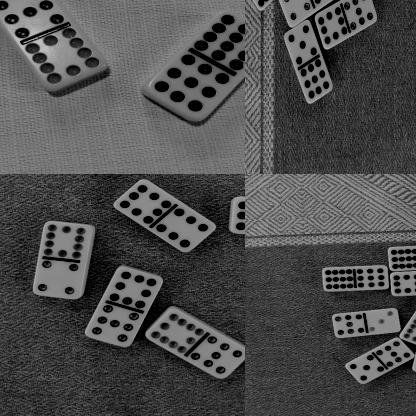pip-10: (27, 28, 107, 87), (146, 306, 205, 352), (41, 222, 96, 260), (400, 317, 416, 347)
pip-12: (195, 10, 245, 69), (323, 266, 355, 291), (387, 245, 416, 270)
pip-3: (367, 306, 401, 335)
pip-4: (34, 259, 85, 298), (278, 0, 311, 26)
pip-5: (284, 20, 318, 65), (346, 353, 386, 384)
pip-6: (157, 207, 216, 252)
pip-7: (0, 0, 64, 38), (191, 335, 245, 378), (86, 304, 141, 346), (376, 337, 416, 367), (343, 0, 377, 30), (333, 312, 366, 337)
pip-8: (113, 179, 172, 224), (110, 267, 164, 308), (316, 8, 349, 48), (389, 270, 416, 296)
pip-9: (151, 55, 231, 122), (300, 57, 334, 103), (355, 265, 389, 291), (231, 195, 245, 234)
